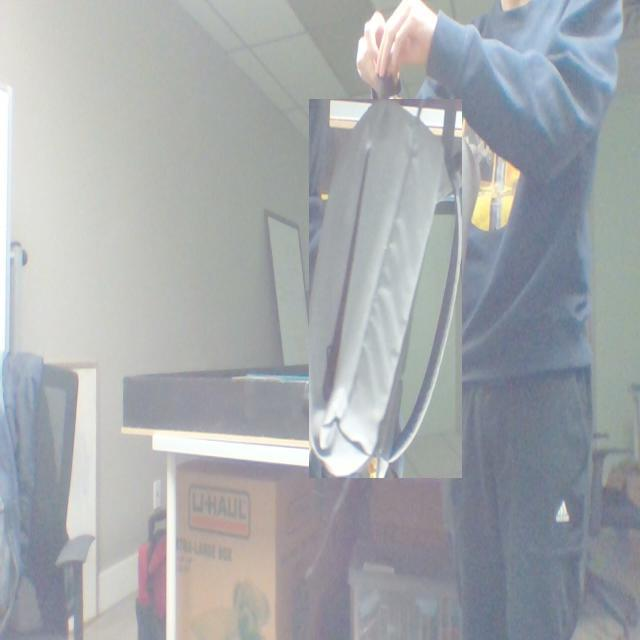Backpacks: (309, 99, 463, 479)
